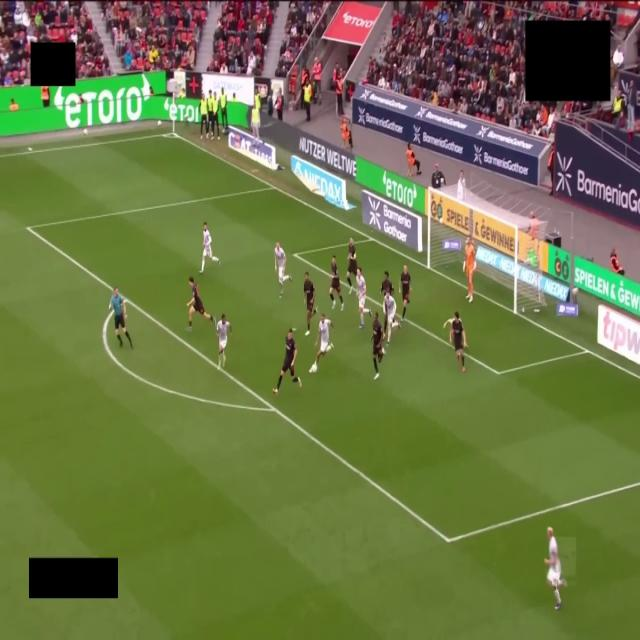ball: (310, 363, 317, 372)
player: (273, 329, 301, 394), (545, 528, 566, 609), (187, 277, 214, 331), (444, 312, 467, 372), (310, 313, 332, 373), (200, 223, 219, 273), (356, 268, 371, 329), (275, 242, 291, 297), (372, 312, 385, 379), (216, 314, 232, 367), (463, 238, 476, 302), (304, 272, 317, 335), (384, 292, 399, 345), (329, 256, 343, 310), (400, 265, 411, 321), (347, 238, 357, 294), (381, 272, 394, 301), (381, 272, 394, 296)
referee: (109, 288, 132, 348)
